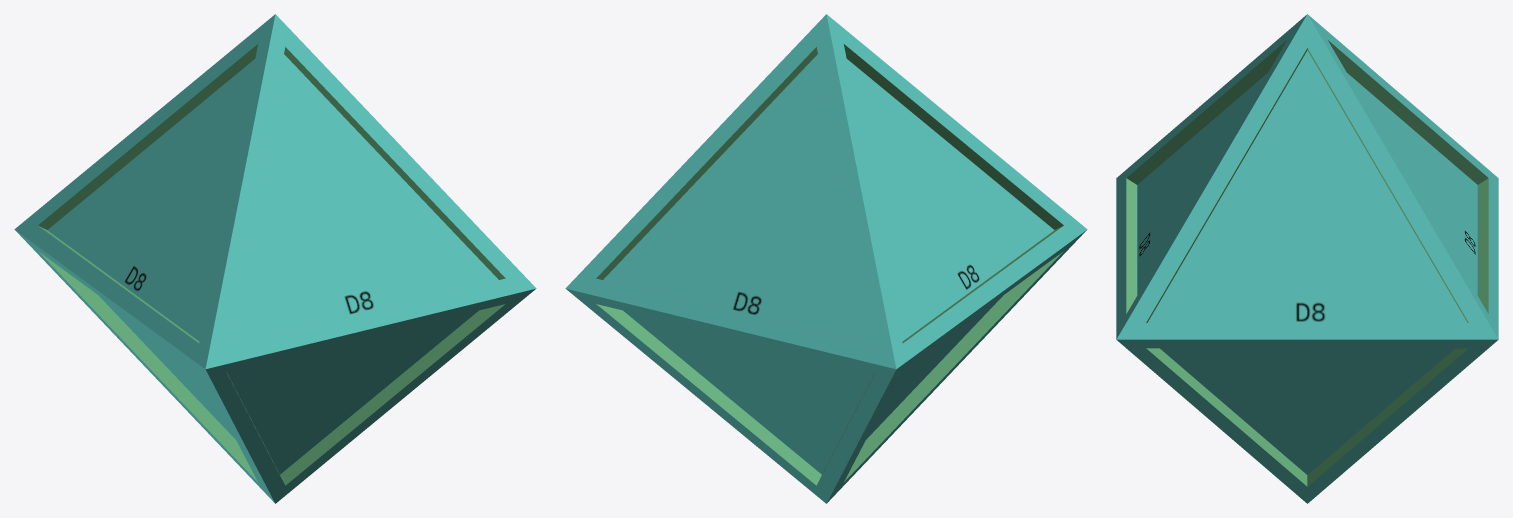
The model's file is D8Complex.obj.
3 renders of one model, left to right at view 1: azimuth 30°, elevation 25°; view 2: azimuth 150°, elevation 25°; view 3: azimuth 270°, elevation 25°, orthographic.
Visible parts, largest first — view 1: D8Complex; view 2: D8Complex; view 3: D8Complex.
Part boxes in pixels (x1=…): D8Complex: x1=14, y1=14, x2=536, y2=503; D8Complex: x1=565, y1=14, x2=1087, y2=503; D8Complex: x1=1116, y1=14, x2=1498, y2=503.
Bounding box in the file's own units: 2 × 2.83 × 2.
1 material, 1 textured.
